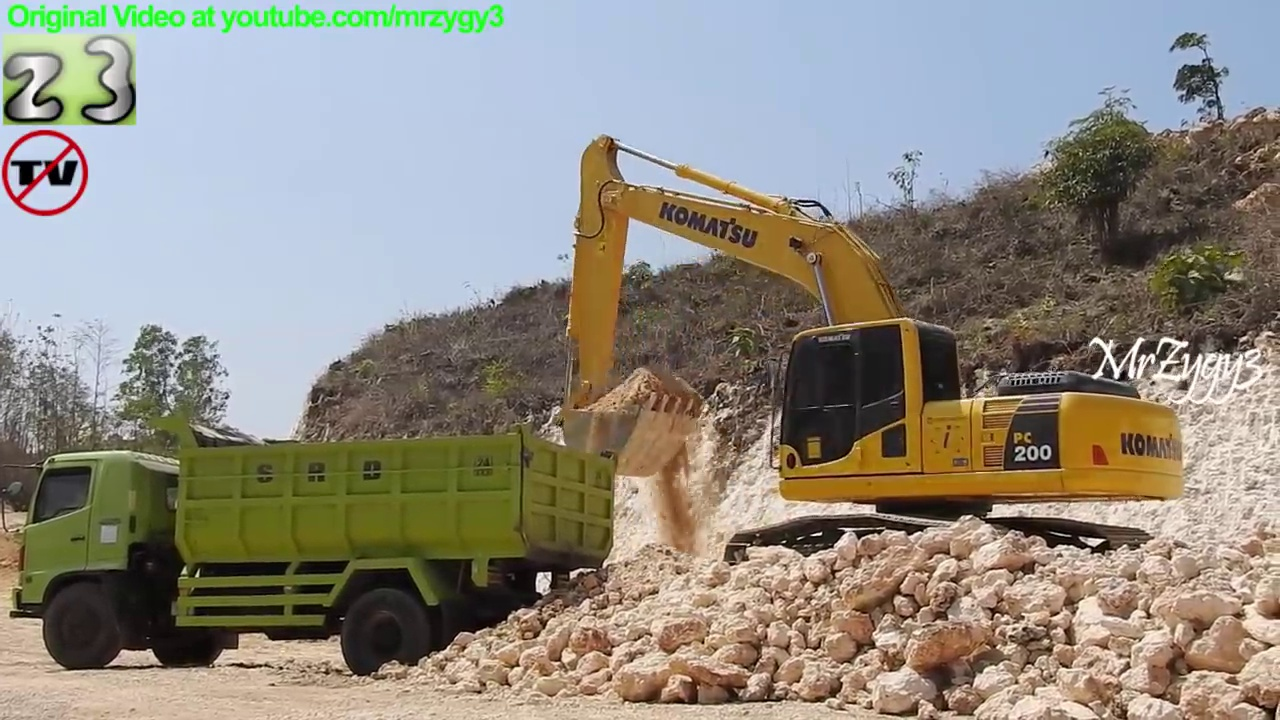excavator: (551, 128, 1192, 590)
truck: (1, 408, 627, 683)
